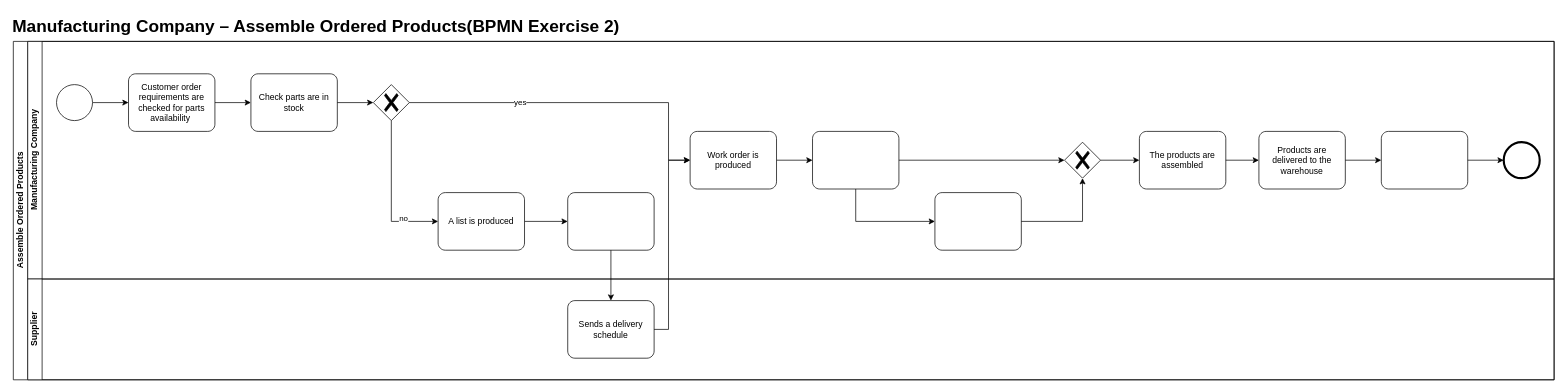
Some shapes in this 1567 by 392 pixel diagram are drawn without their labels. Here are the shapes that lost their labels. From the top down, the centre of each, then its label:
At point 391,102: "parts are in stock?".
At point 855,160: "Product delivery schedule is produced and sent to the customer".
At point 1424,160: "The work order is completed".
At point 610,221: "Parts ordered from the supplier".
At point 977,221: "Parts from the parts supplier are received".
